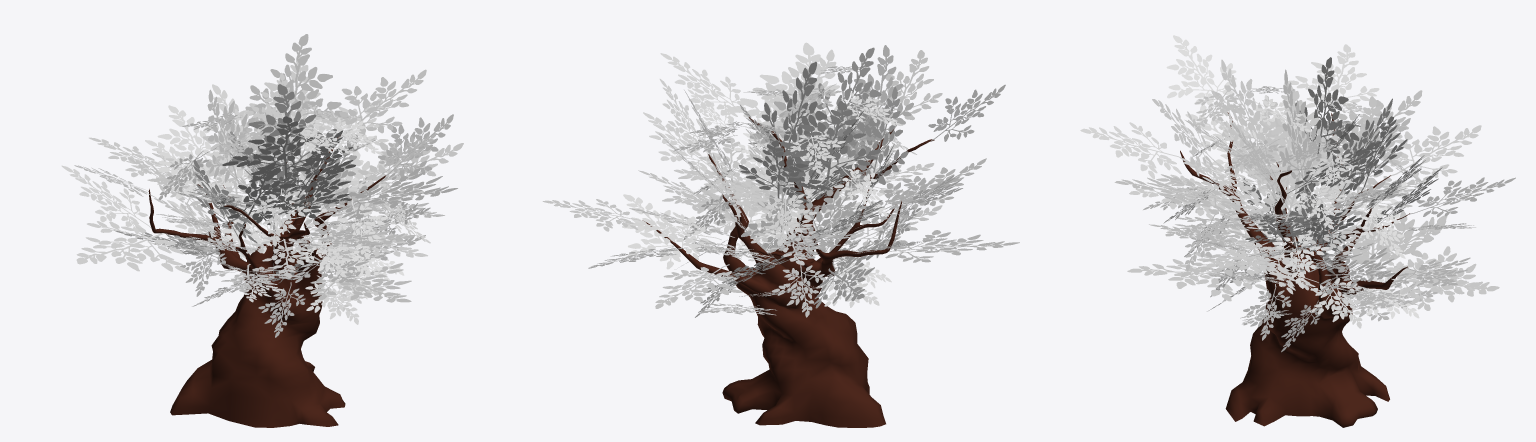
Rendered from TreeBig.fbx.
3 views of the same model, side by side, from view 1: azimuth 30°, elevation 25°; view 2: azimuth 150°, elevation 25°; view 3: azimuth 270°, elevation 25° (orthographic).
Parts seen in each view (by area): view 1: TreeBig; view 2: TreeBig; view 3: TreeBig.
Part boxes in pixels (x1,y1,x2,y2): TreeBig: (61, 34, 463, 427); TreeBig: (542, 42, 1019, 427); TreeBig: (1080, 35, 1515, 427).
Bounding box in the file's own units: 9.19 × 6.84 × 8.01.
